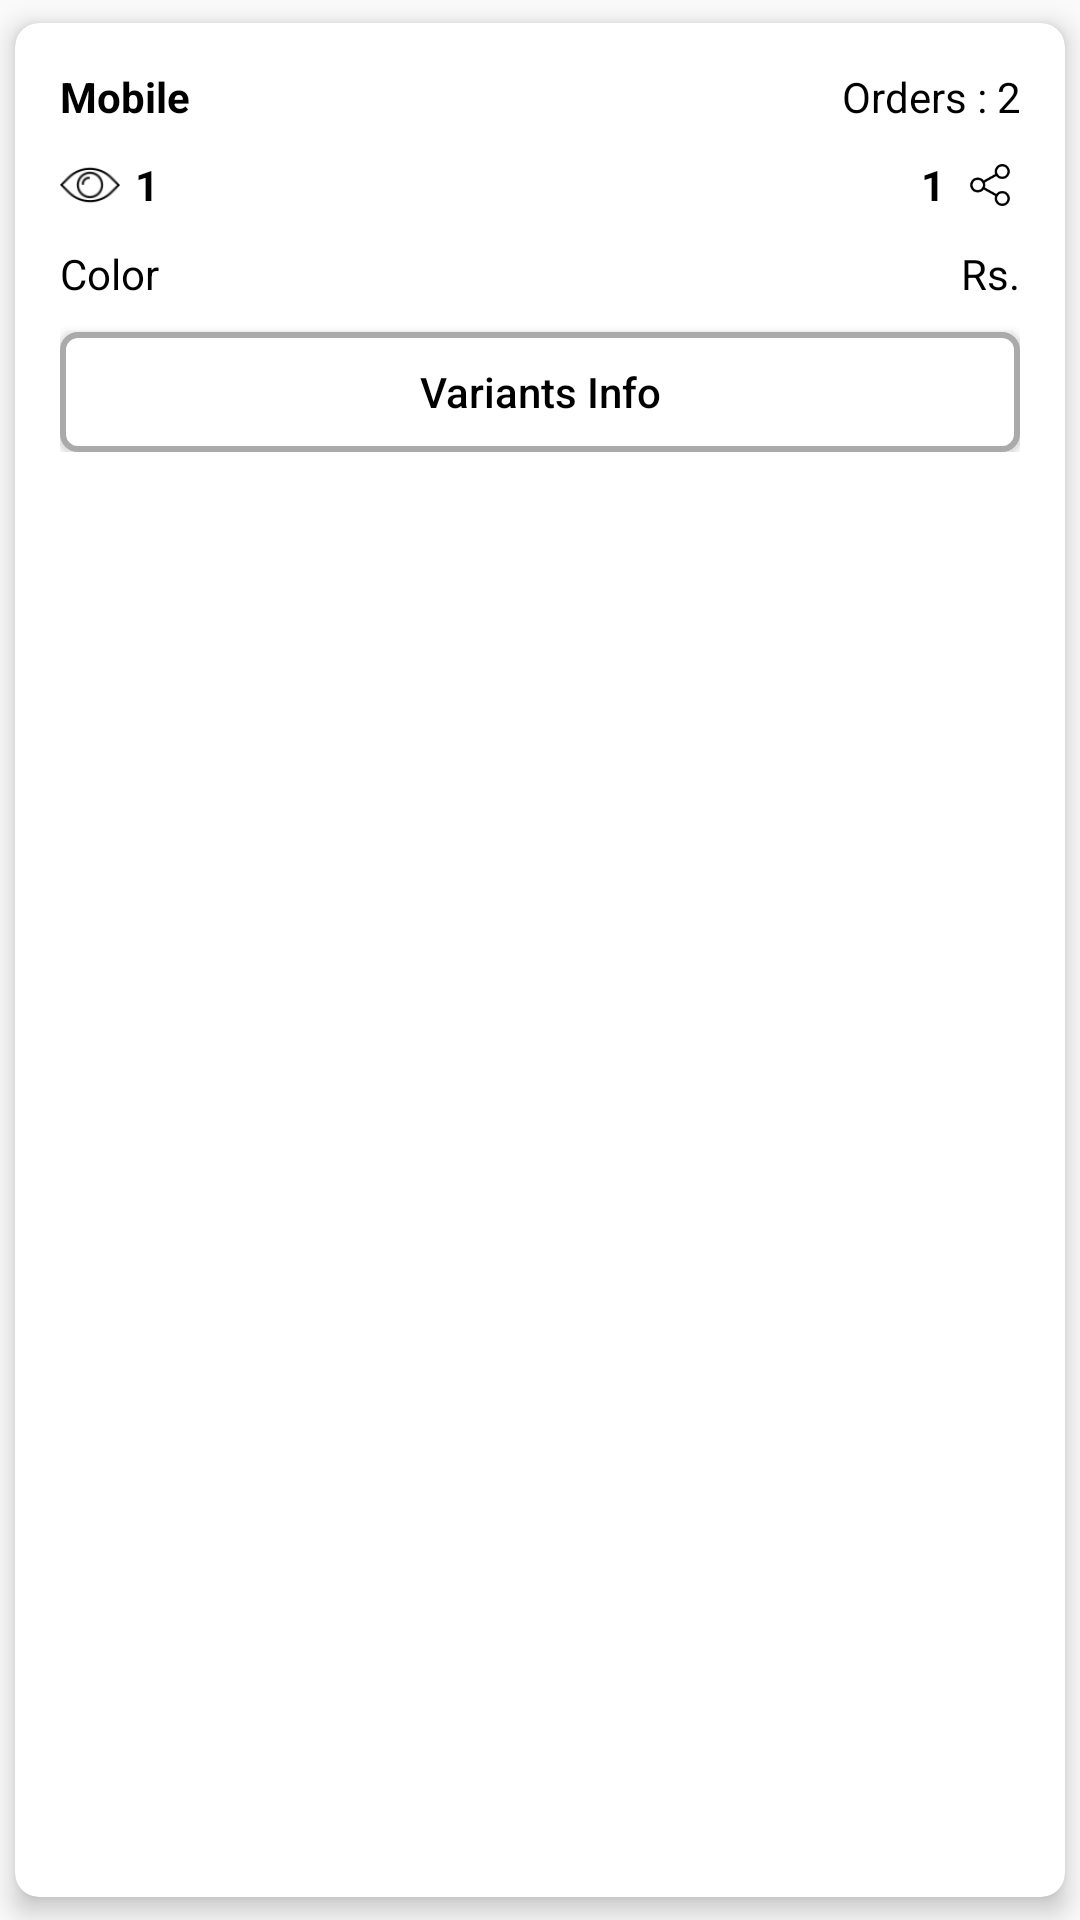

Where to tap for icons on this 1080×1920 app screen, as [x,y]:
share: [990,185]
view: [90,185]
